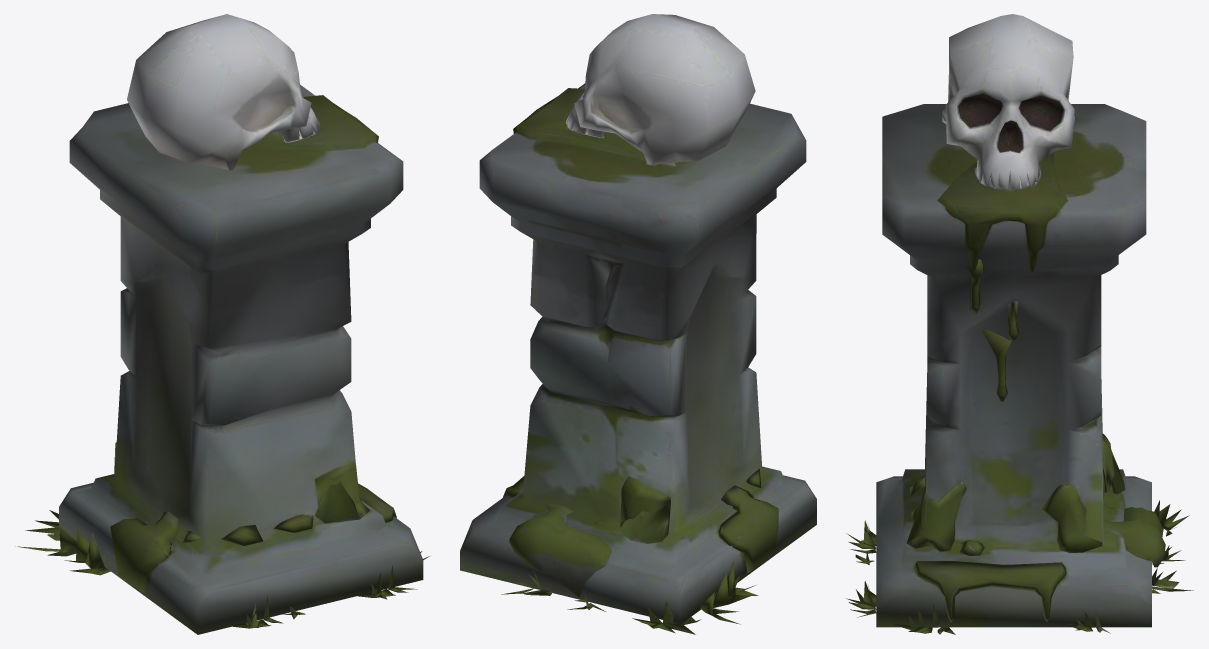
Rendered from delve_rite_shrine_skull.glb.
3 views of the same model, side by side, from view 1: azimuth 30°, elevation 25°; view 2: azimuth 150°, elevation 25°; view 3: azimuth 270°, elevation 25° (orthographic). The views are drawn at different scales.
Visible parts, largest first — view 1: tripo_node_512d6776-4021-4197-8e33-5150ce9023e3; view 2: tripo_node_512d6776-4021-4197-8e33-5150ce9023e3; view 3: tripo_node_512d6776-4021-4197-8e33-5150ce9023e3.
Part boxes in pixels (box(x1,y1,x2,y2)): tripo_node_512d6776-4021-4197-8e33-5150ce9023e3: box(15, 14, 429, 634); tripo_node_512d6776-4021-4197-8e33-5150ce9023e3: box(460, 14, 816, 634); tripo_node_512d6776-4021-4197-8e33-5150ce9023e3: box(846, 14, 1193, 634).
Size of the model in its own units: 1.3 by 2.2 by 1.3.
Materials: 1 (1 with a texture image).
